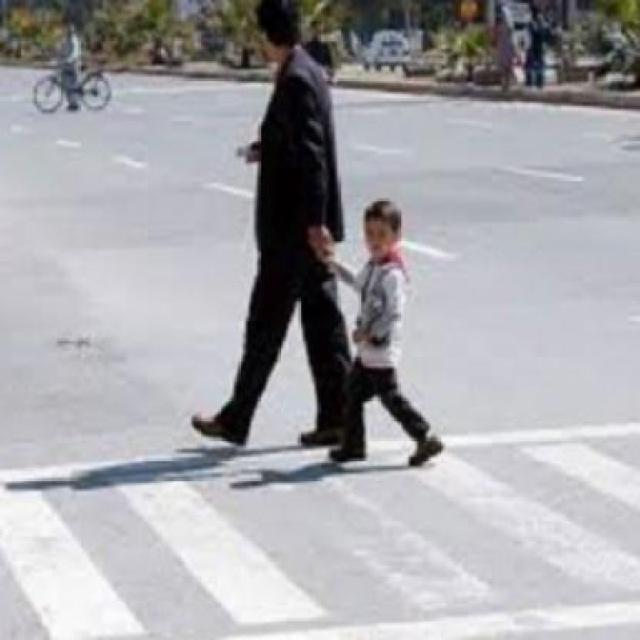obstacle: (188, 0, 352, 446), (329, 195, 451, 470)
